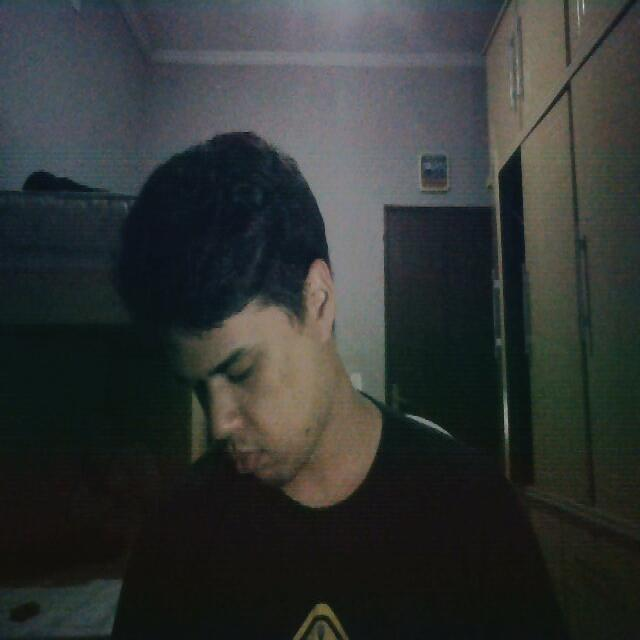sonolento: (160, 168, 360, 514)
